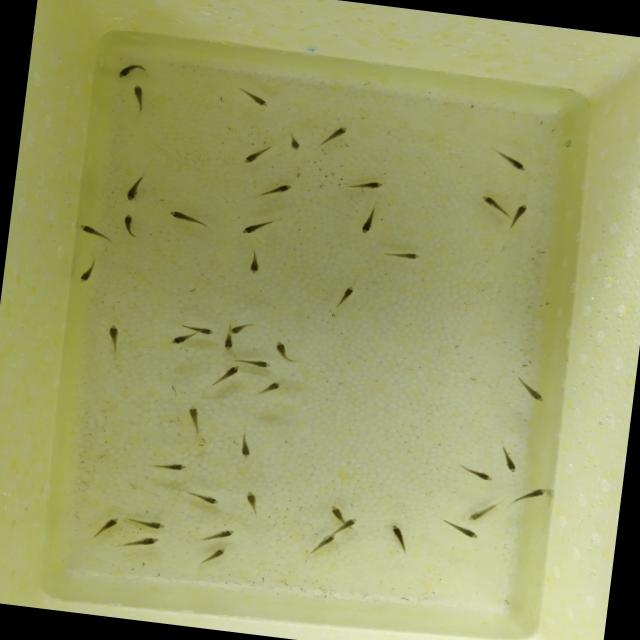fingerling: (118, 530, 170, 556), (160, 207, 212, 230), (209, 360, 248, 390), (509, 482, 552, 509), (256, 177, 300, 202), (196, 522, 243, 545), (494, 148, 530, 177), (328, 282, 360, 314), (384, 519, 414, 553), (314, 122, 350, 150), (307, 528, 338, 560), (194, 542, 229, 570), (90, 511, 122, 540), (120, 172, 148, 205), (516, 378, 550, 405), (100, 319, 127, 353), (75, 254, 102, 288), (126, 82, 153, 116), (342, 175, 390, 194), (352, 208, 382, 238), (186, 486, 225, 509), (77, 221, 116, 244), (238, 216, 275, 240), (460, 464, 500, 486), (182, 400, 206, 436), (240, 484, 264, 518), (238, 86, 272, 110), (476, 189, 506, 216), (237, 144, 268, 170), (232, 428, 257, 460), (254, 376, 287, 400), (125, 515, 173, 531), (464, 502, 496, 526), (267, 338, 299, 362), (506, 200, 530, 232), (497, 446, 522, 476), (446, 522, 482, 542), (384, 247, 424, 265), (114, 58, 144, 82), (116, 211, 142, 238), (243, 250, 266, 278), (282, 130, 306, 155), (332, 516, 362, 534), (152, 460, 190, 474), (321, 502, 348, 517), (168, 332, 195, 346), (250, 358, 276, 372), (227, 322, 250, 336), (188, 324, 216, 335), (220, 336, 238, 352)
